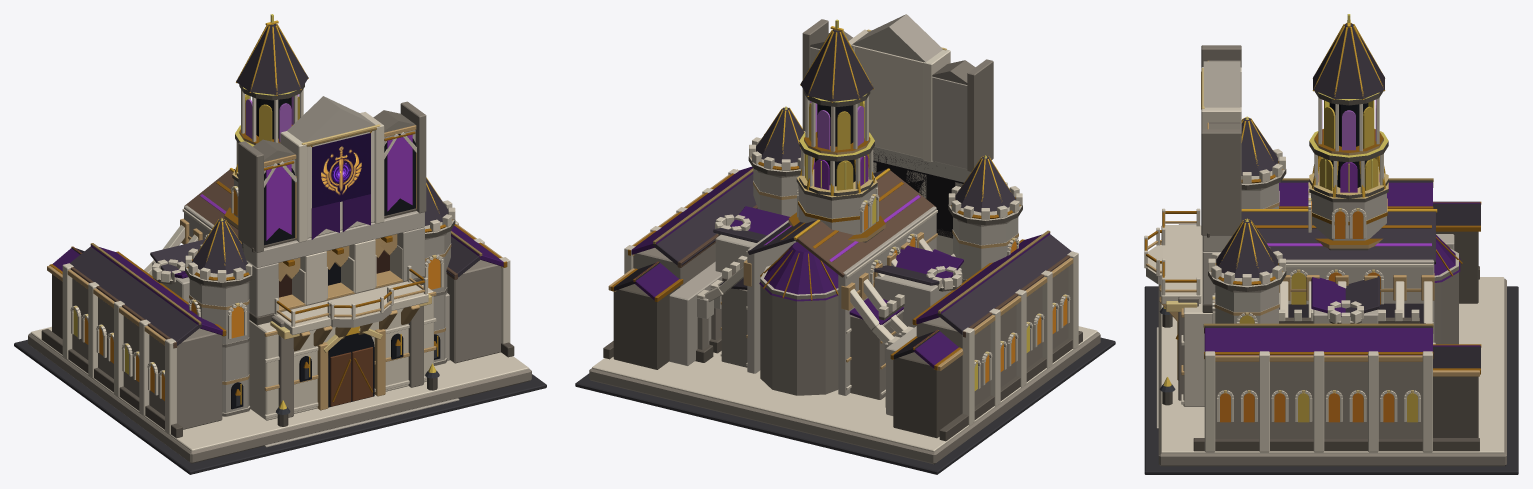
3 views of the same model, side by side, from view 1: azimuth 30°, elevation 25°; view 2: azimuth 150°, elevation 25°; view 3: azimuth 270°, elevation 25° (orthographic). The views are drawn at different scales.
Visible parts, largest first — view 1: WK_GrandCovenantCathedral_LOD1_Balanced_Architecture, WK_GrandCovenantCathedral_LOD1_Balanced_CanonicalEmblem; view 2: WK_GrandCovenantCathedral_LOD1_Balanced_Architecture; view 3: WK_GrandCovenantCathedral_LOD1_Balanced_Architecture.
Boxes of the visible parts, x1,y1,x2,y2 form: WK_GrandCovenantCathedral_LOD1_Balanced_Architecture: [14, 14, 546, 474]; WK_GrandCovenantCathedral_LOD1_Balanced_CanonicalEmblem: [312, 133, 370, 208]; WK_GrandCovenantCathedral_LOD1_Balanced_Architecture: [575, 14, 1115, 474]; WK_GrandCovenantCathedral_LOD1_Balanced_Architecture: [1144, 14, 1518, 474].
Size of the model in its own units: 34 by 31.5 by 29.02.
2 materials, 1 textured.
